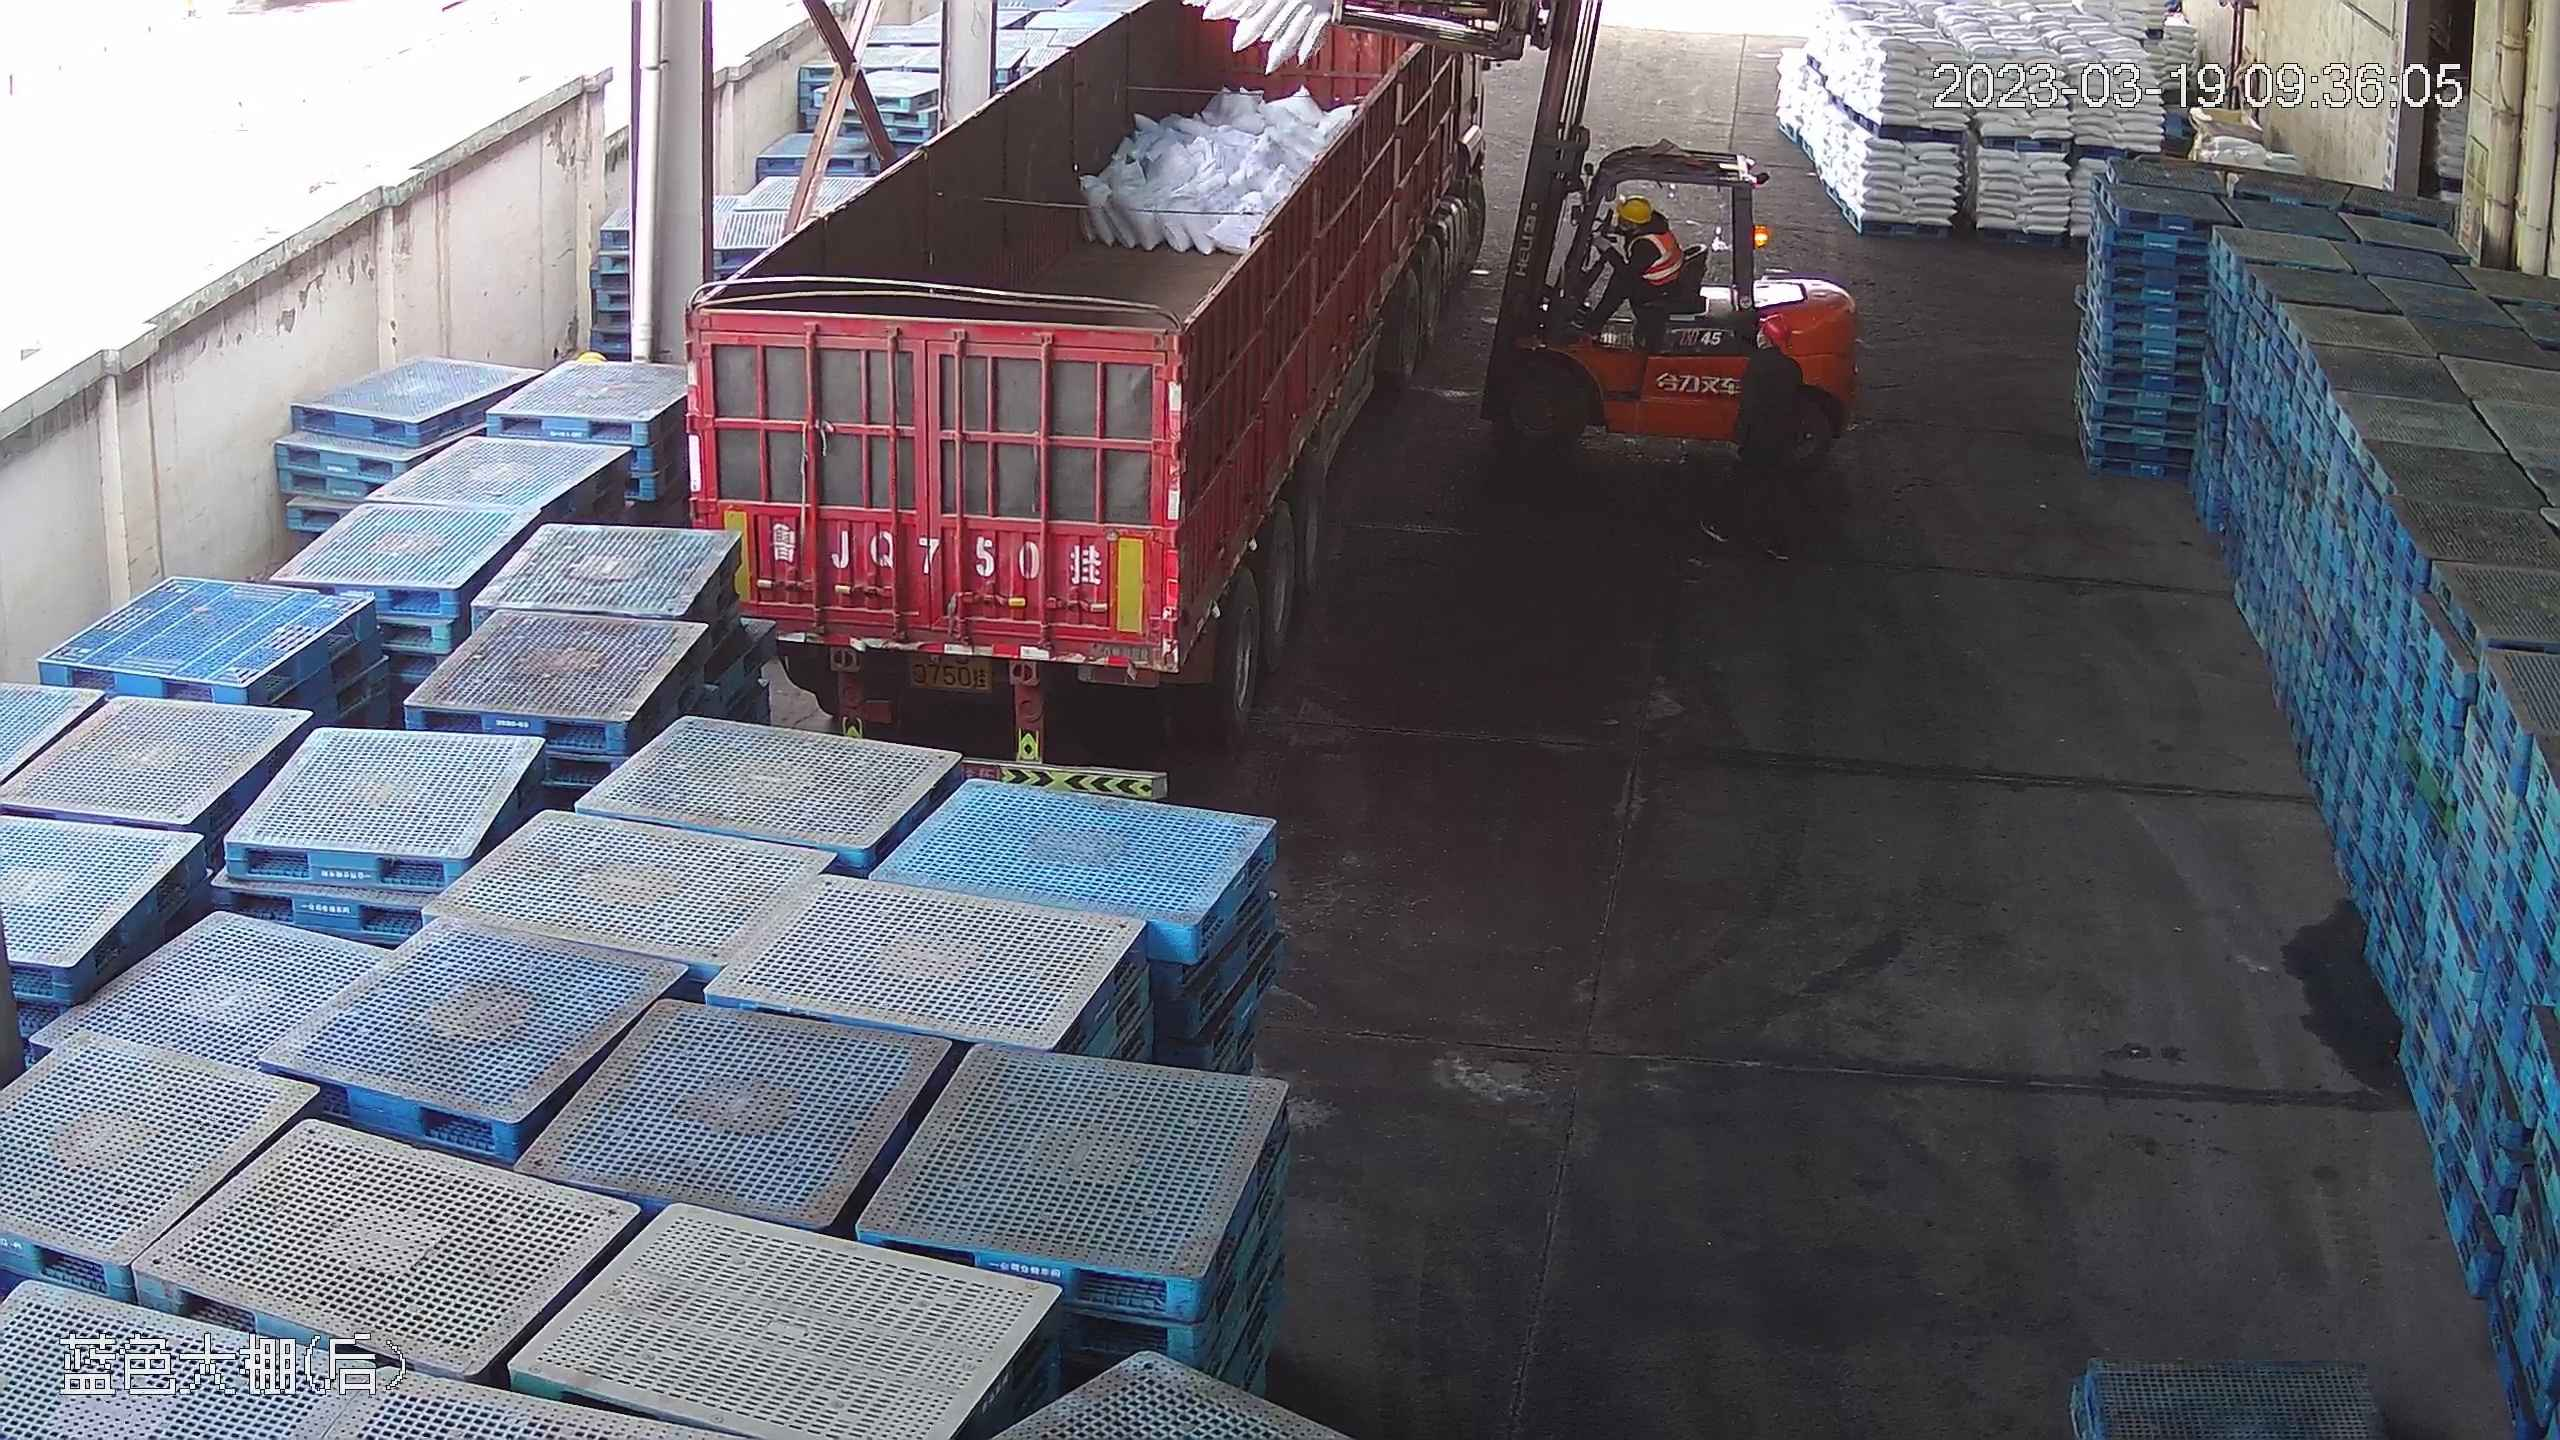head: (1582, 195, 1686, 336), (1606, 195, 1679, 261)
helmet: (1617, 194, 1658, 222)
people: (1578, 192, 1689, 346)
truck: (706, 2, 1511, 779)
